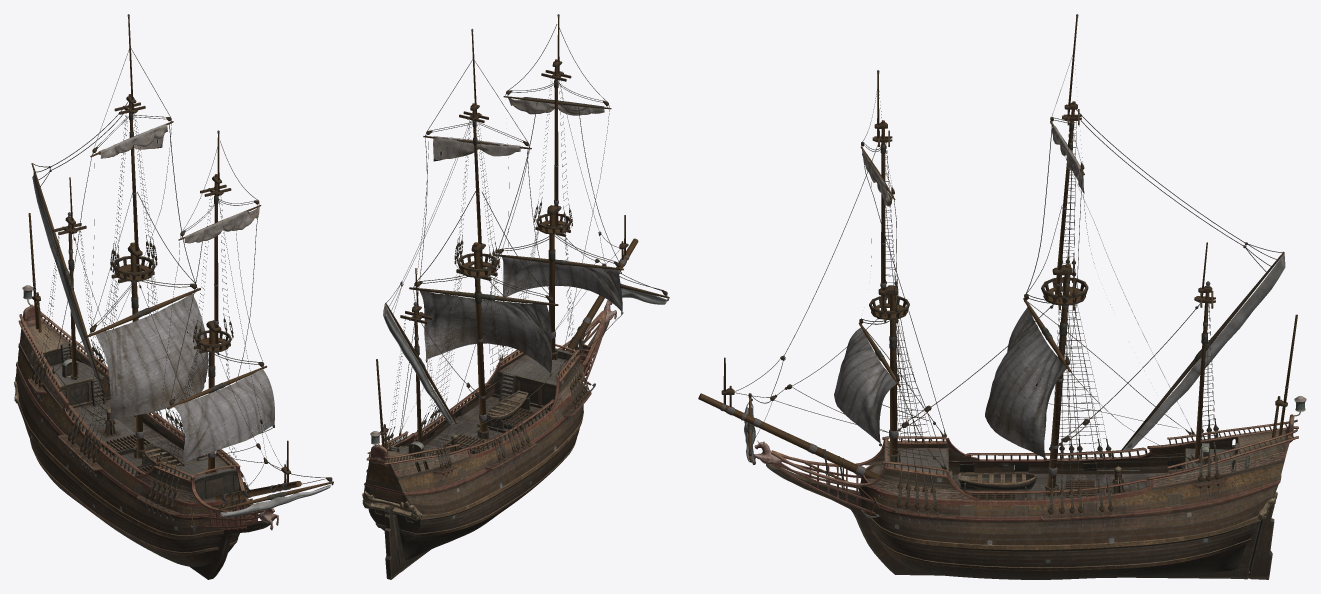
File: dutch-ship-medium.glb
The picture shows the model from 3 angles, left to right: view 1: azimuth 30°, elevation 25°; view 2: azimuth 150°, elevation 25°; view 3: azimuth 270°, elevation 25°; orthographic projection. The views are drawn at different scales.
Parts seen in each view (by area): view 1: hull, rigging, sails; view 2: hull, rigging, sails; view 3: hull, rigging, sails.
Boxes of the visible parts, x1=… form: hull: x1=14, y1=285, x2=278, y2=579; rigging: x1=28, y1=14, x2=333, y2=531; sails: x1=95, y1=124, x2=274, y2=462; hull: x1=362, y1=300, x2=616, y2=579; rigging: x1=376, y1=14, x2=669, y2=482; sails: x1=420, y1=97, x2=622, y2=372; hull: x1=752, y1=396, x2=1306, y2=579; rigging: x1=698, y1=14, x2=1297, y2=529; sails: x1=834, y1=126, x2=1084, y2=457.
Bounding box in the file's own units: 6.81 × 24.66 × 24.07.
Materials: 3 (3 with a texture image).
